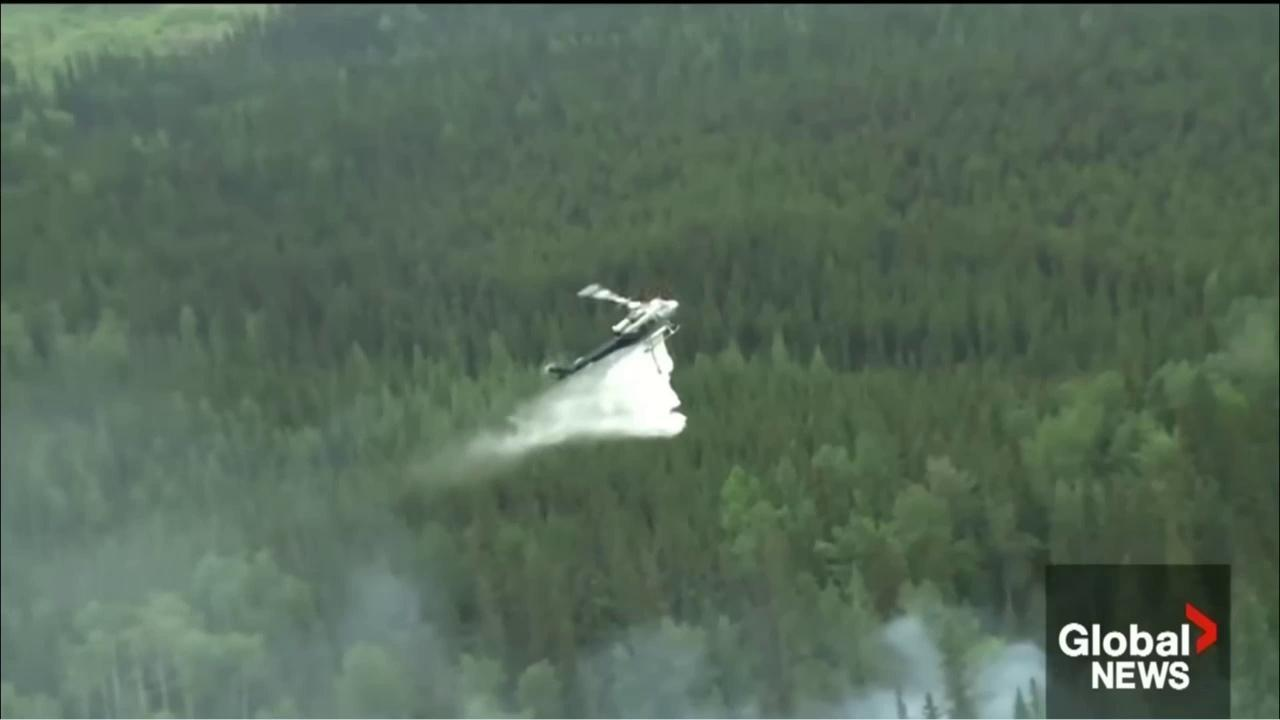smoke: (0, 470, 1048, 720)
